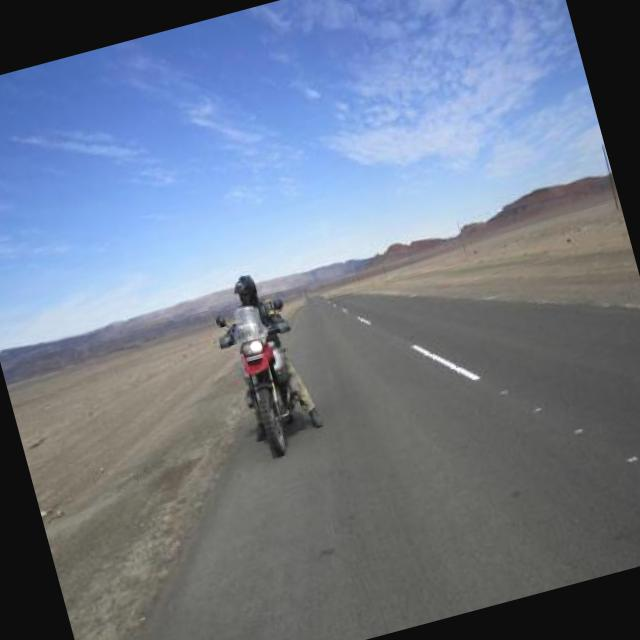Person: (212, 268, 288, 342)
